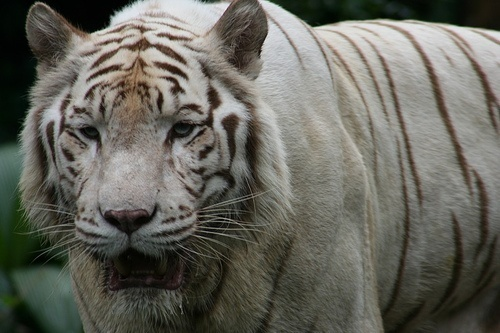tigre: (9, 2, 499, 333)
